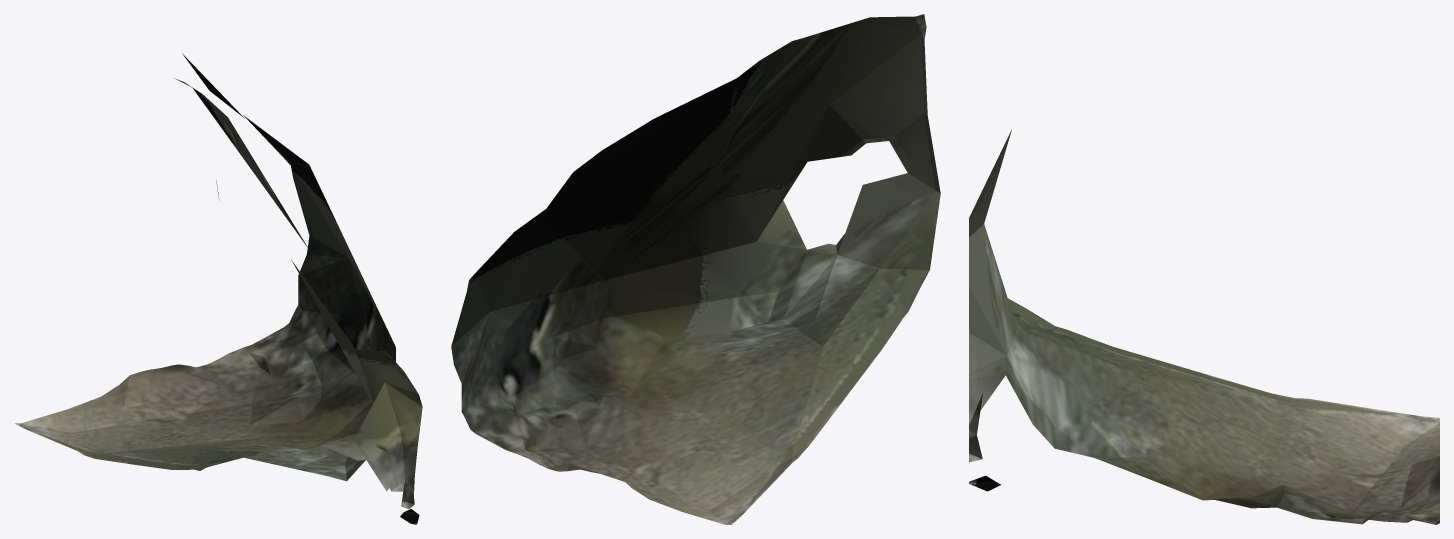
The picture shows the model from 3 angles, left to right: view 1: azimuth 30°, elevation 25°; view 2: azimuth 150°, elevation 25°; view 3: azimuth 270°, elevation 25°; orthographic projection. The views are drawn at different scales.
Size of the model in its own units: 4.43 by 5.69 by 5.9.
Materials: 4 (4 with a texture image).
